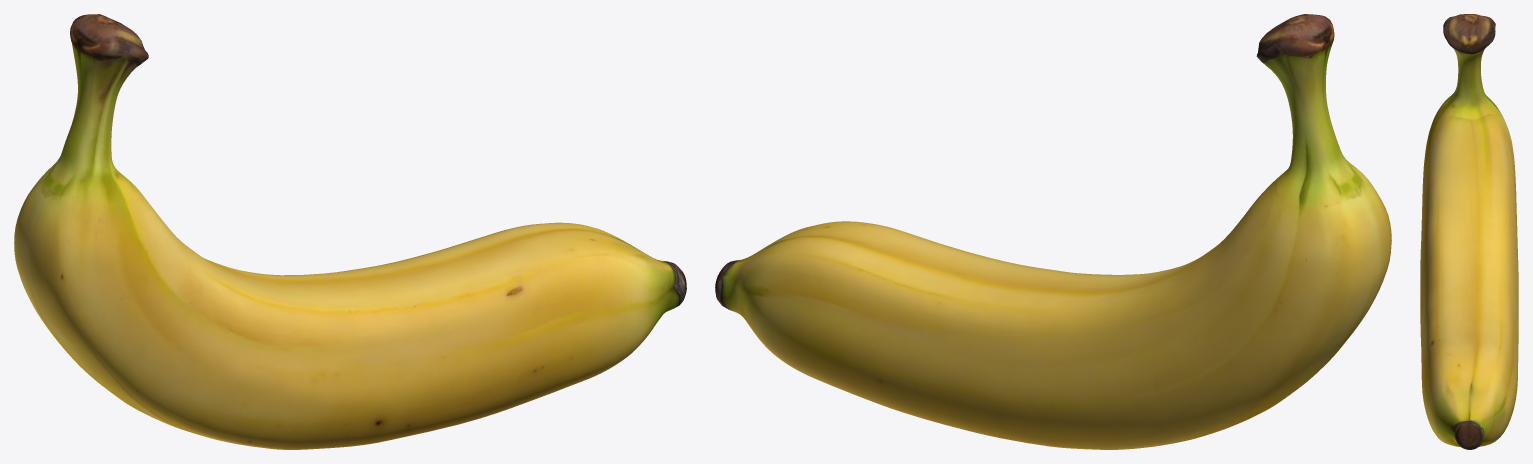
File: Meshy_AI_Banana_0301025912_texture.glb
3 views of the same model, side by side, from view 1: azimuth 30°, elevation 25°; view 2: azimuth 150°, elevation 25°; view 3: azimuth 270°, elevation 25° (orthographic). The views are drawn at different scales.
Visible parts, largest first — view 1: Mesh_0; view 2: Mesh_0; view 3: Mesh_0.
Part boxes in pixels (<box>): Mesh_0: <box>14,14,686,449</box>; Mesh_0: <box>715,14,1391,449</box>; Mesh_0: <box>1420,14,1518,449</box>.
Size of the model in its own units: 1.43 by 1 by 0.3016.
1 material, 1 textured.
